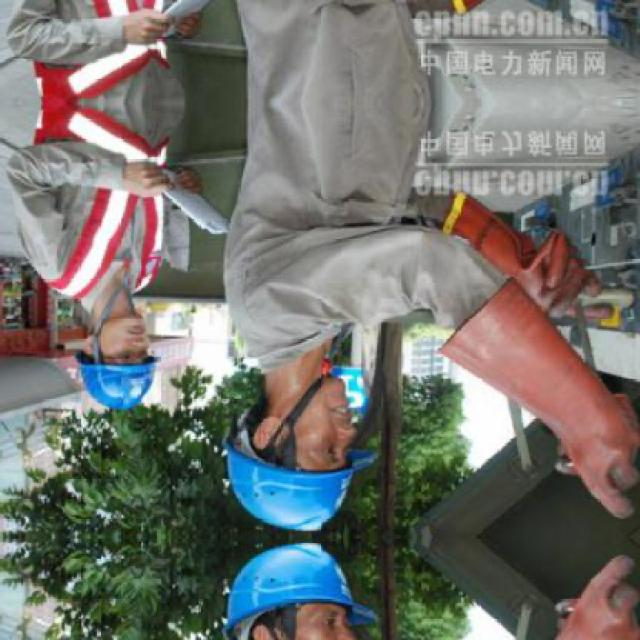con casco: (208, 370, 392, 530), (70, 321, 155, 414)
